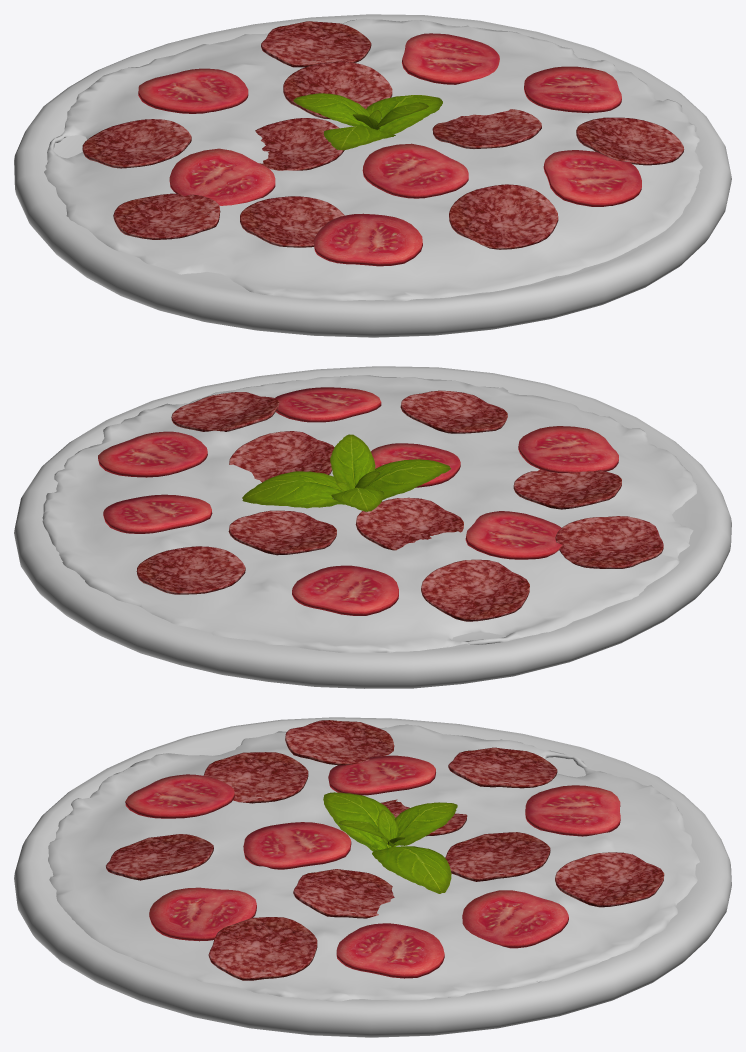
The model's file is pizza.gltf.
3 renders of one model, top to bottom at view 1: azimuth 30°, elevation 25°; view 2: azimuth 150°, elevation 25°; view 3: azimuth 270°, elevation 25°, orthographic.
Visible parts, largest first — view 1: Cheese, Pizza, Salami, Tomatoes, Leaves; view 2: Cheese, Pizza, Salami, Tomatoes, Leaves; view 3: Cheese, Pizza, Salami, Tomatoes, Leaves.
Boxes of the visible parts, box(x1,y1,x2,y2) form: Cheese: box(44, 18, 702, 301); Pizza: box(14, 14, 731, 337); Salami: box(82, 21, 684, 249); Tomatoes: box(138, 33, 641, 266); Leaves: box(293, 93, 442, 150); Cheese: box(42, 375, 697, 652); Pizza: box(14, 366, 731, 688); Salami: box(136, 390, 663, 621); Tomatoes: box(98, 387, 618, 615); Leaves: box(242, 434, 451, 511); Cheese: box(48, 724, 699, 1001); Pizza: box(14, 717, 731, 1037); Salami: box(106, 720, 664, 980); Tomatoes: box(125, 755, 620, 978); Leaves: box(323, 792, 457, 893).
Bounding box in the file's own units: 0.56 × 0.0783 × 0.5656.
